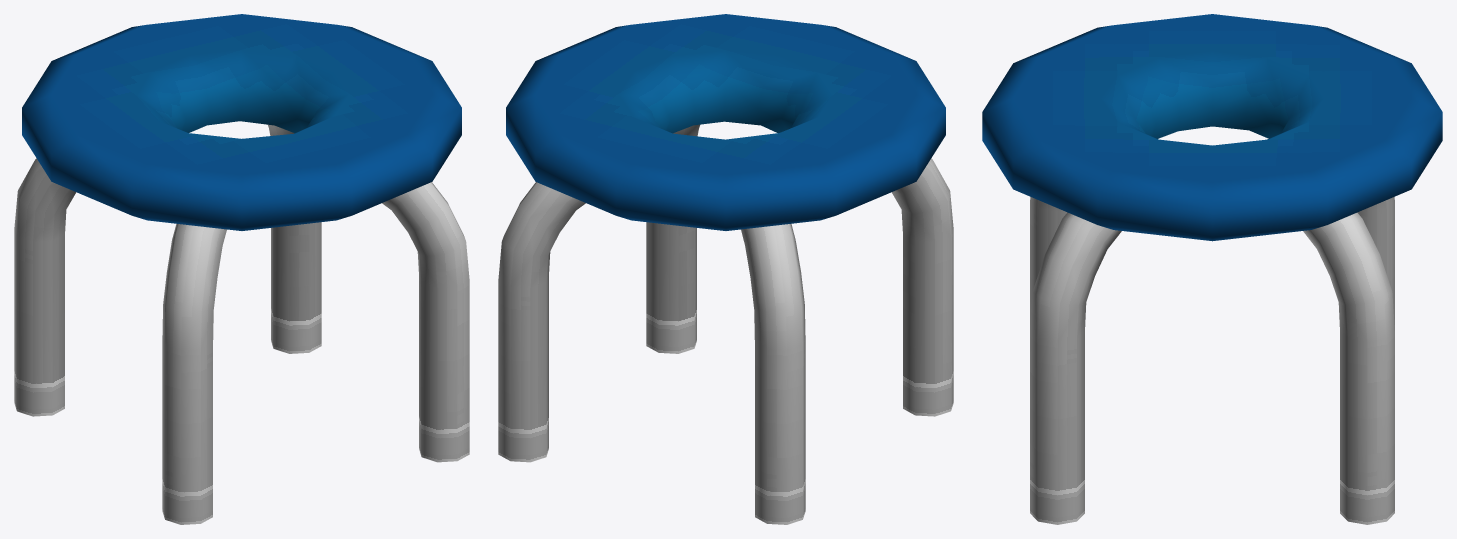
File: rmk_oth_stool_do.dae
3 views of the same model, side by side, from view 1: azimuth 30°, elevation 25°; view 2: azimuth 150°, elevation 25°; view 3: azimuth 270°, elevation 25° (orthographic). The views are drawn at different scales.
Parts seen in each view (by area): view 1: rmk_oth_stool_do; view 2: rmk_oth_stool_do; view 3: rmk_oth_stool_do.
Part boxes in pixels (box(x1,y1,x2,y2)): rmk_oth_stool_do: box(14, 14, 469, 524); rmk_oth_stool_do: box(498, 14, 953, 524); rmk_oth_stool_do: box(982, 14, 1442, 524).
Size of the model in its own units: 19.93 by 16.71 by 19.93.
2 materials, 2 textured.
